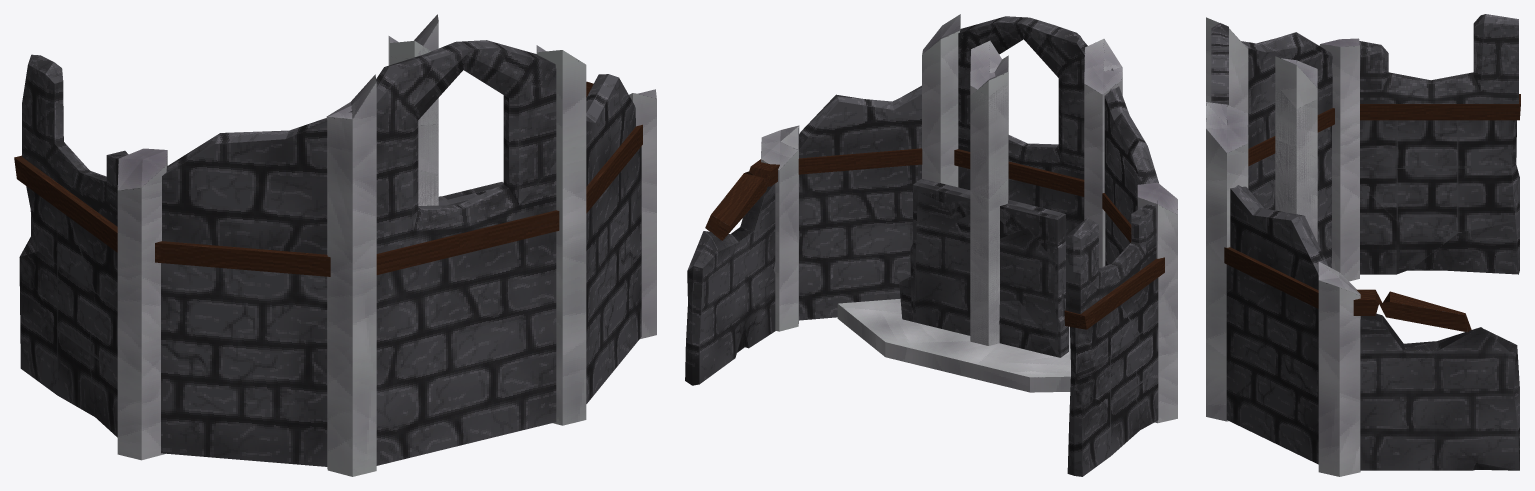
Rendered from Ruins_Scattered.gltf.
3 views of the same model, side by side, from view 1: azimuth 30°, elevation 25°; view 2: azimuth 150°, elevation 25°; view 3: azimuth 270°, elevation 25° (orthographic). The views are drawn at different scales.
Visible parts, largest first — view 1: Ruins_Complete, Pillar 2, Pillar 4, Pillar 3; view 2: Ruins_Complete, Wall - Broken 3, Pillar 2, Pillar 1, Pillar 3, Wall - Full 1, Wall - Broken 2, Wall - Window 1, Wall - Full 3; view 3: Ruins_Complete, Pillar 3, Pillar 2, Pillar 4, Pillar 1.
Part boxes in pixels (x1,y1,x2,y2): Ruins_Complete: (14, 40, 656, 476); Pillar 2: (388, 36, 438, 205); Pillar 4: (418, 124, 438, 205); Pillar 3: (389, 14, 438, 204); Ruins_Complete: (685, 14, 1177, 476); Wall - Broken 3: (914, 193, 1065, 357); Pillar 2: (970, 55, 1008, 345); Pillar 1: (970, 172, 1008, 345); Pillar 3: (970, 40, 1008, 344); Wall - Full 1: (913, 179, 1065, 330); Wall - Broken 2: (999, 300, 1056, 356); Wall - Window 1: (913, 201, 1065, 343); Wall - Full 3: (910, 179, 1062, 322); Ruins_Complete: (1206, 14, 1520, 476); Pillar 3: (1275, 56, 1317, 238); Pillar 2: (1275, 58, 1317, 234); Pillar 4: (1275, 140, 1317, 214); Pillar 1: (1275, 181, 1317, 242).
Size of the model in its own units: 8.98 by 6.76 by 5.6.
Materials: 1 (1 with a texture image).
